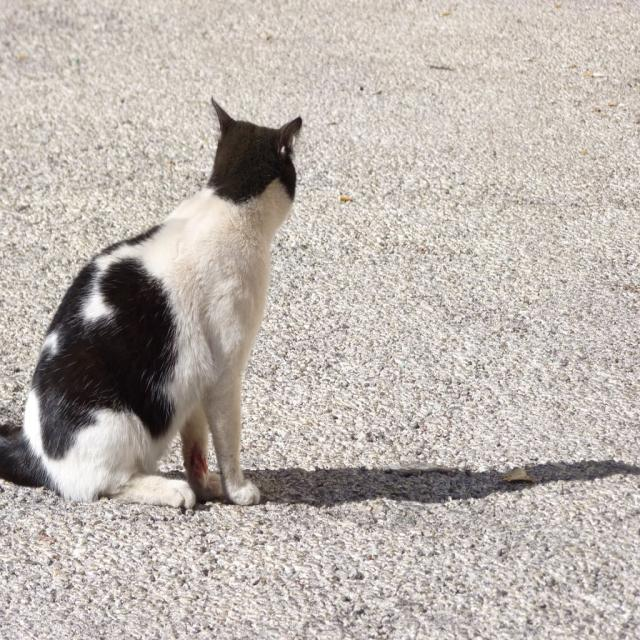Cat: (0, 89, 300, 511)
